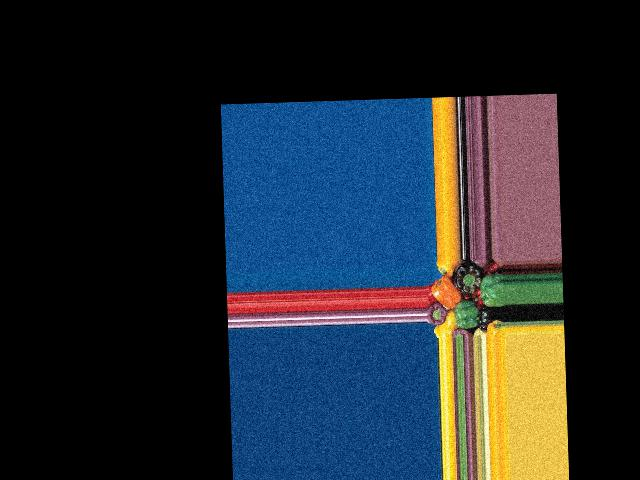bell_pepper: (482, 272, 505, 306)
